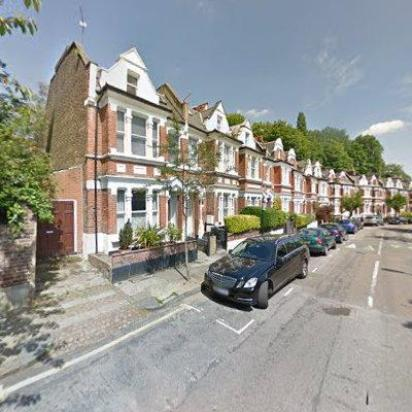stationary-car-onstreet: (200, 232, 312, 310), (292, 226, 334, 256), (322, 223, 346, 242), (339, 219, 358, 232)
